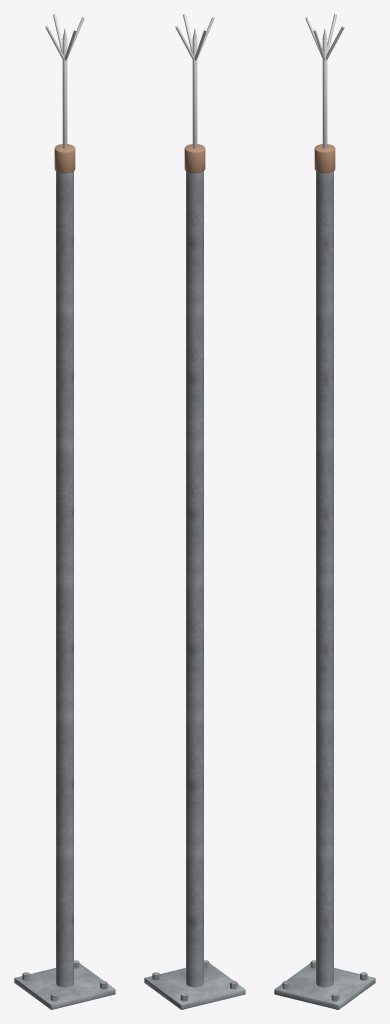
File: ELE-SPD-001_anim.glb
The picture shows the model from 3 angles, left to right: view 1: azimuth 30°, elevation 25°; view 2: azimuth 210°, elevation 25°; view 3: azimuth 330°, elevation 25°; orthographic projection.
Visible parts, largest first — view 1: ELE-SPD-001_anim0; view 2: ELE-SPD-001_anim0; view 3: ELE-SPD-001_anim0.
Part boxes in pixels (x1,y1,x2,y2): ELE-SPD-001_anim0: (14,14,115,1009); ELE-SPD-001_anim0: (144,14,245,1009); ELE-SPD-001_anim0: (274,14,375,1009).
Size of the model in its own units: 0.25 by 3.57 by 0.25.
3 materials, 1 textured.
